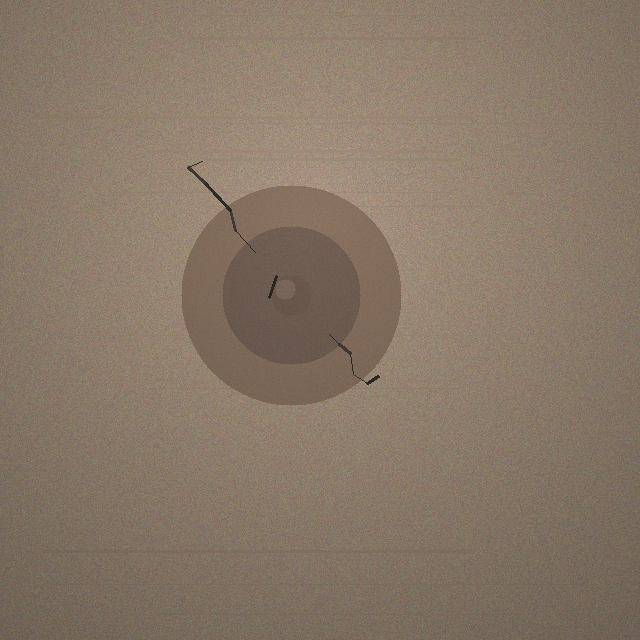crack: (181, 185, 401, 405)
